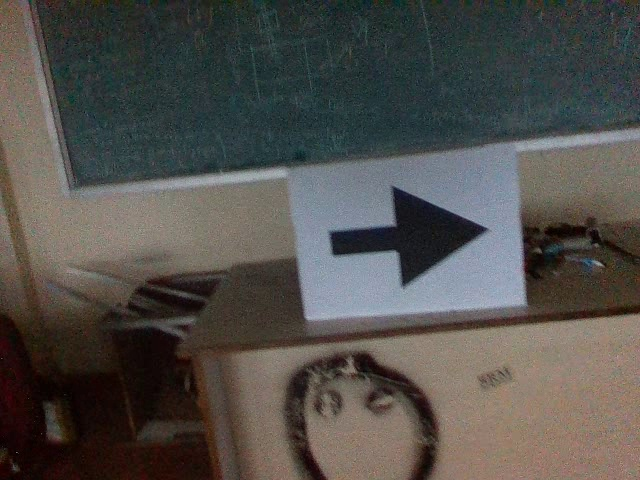Right: (322, 183, 490, 288)
